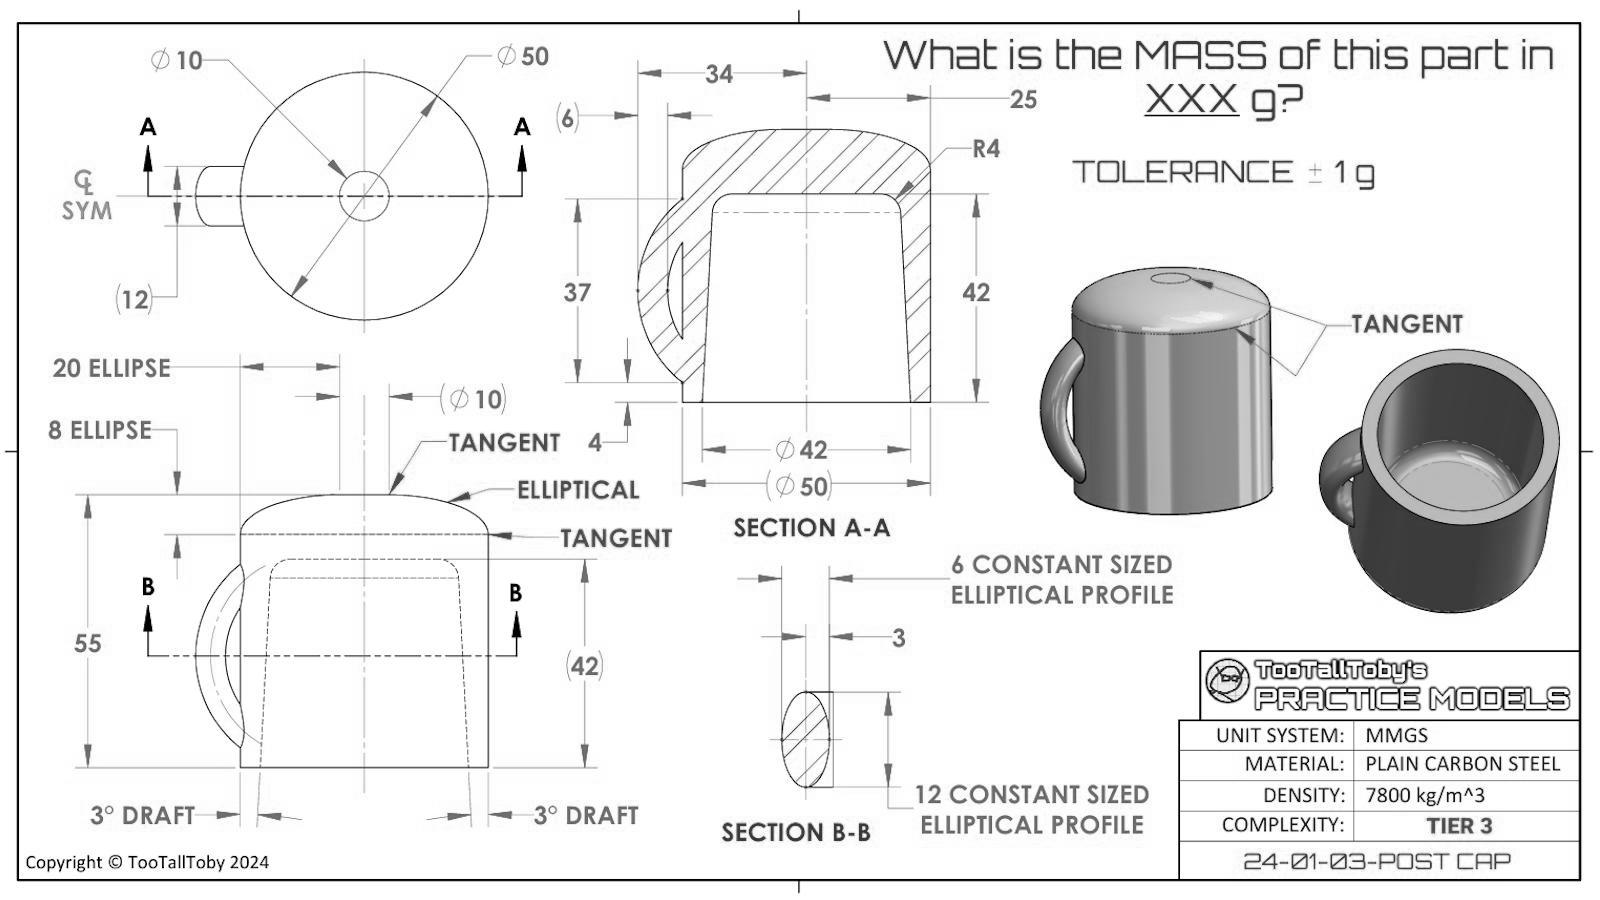-: (1304, 155, 1326, 189), (862, 523, 874, 534), (844, 830, 857, 837)
0: (534, 44, 552, 69), (189, 47, 203, 74), (66, 357, 81, 380), (487, 389, 503, 410), (813, 476, 827, 499), (1399, 787, 1411, 805), (1389, 787, 1399, 804)
1: (1332, 157, 1351, 188), (176, 48, 188, 73), (475, 387, 486, 411), (915, 784, 927, 804), (122, 289, 132, 311)
2: (1009, 88, 1024, 112), (926, 782, 942, 805), (814, 436, 829, 460), (52, 357, 67, 379), (585, 655, 599, 677), (134, 290, 149, 310), (977, 280, 990, 302)
3: (705, 60, 720, 87), (89, 804, 104, 825), (533, 804, 547, 825), (891, 627, 905, 647), (564, 281, 576, 304)
4: (720, 62, 735, 86), (986, 136, 1001, 159), (962, 279, 976, 303), (799, 438, 814, 460), (587, 432, 602, 453), (569, 656, 585, 676)
5: (87, 632, 104, 656), (520, 43, 535, 68), (1024, 88, 1040, 111), (73, 633, 87, 655), (798, 475, 812, 497)
6: (949, 553, 966, 576), (562, 105, 575, 129)
7: (577, 279, 593, 302), (1365, 786, 1376, 804)
8: (47, 418, 63, 440), (1376, 786, 1388, 804)
A: (873, 513, 892, 540), (511, 114, 533, 137), (843, 514, 863, 540), (138, 116, 156, 136)
B: (832, 820, 846, 844), (857, 819, 871, 843), (142, 576, 155, 597), (509, 582, 522, 602)
ConstantSized: (947, 781, 1151, 807), (969, 552, 1174, 576)
Degrees: (547, 802, 558, 816), (104, 802, 115, 815)
Density: (1262, 786, 1346, 805)
Diameter: (146, 42, 173, 74), (497, 41, 518, 73), (775, 474, 795, 498), (449, 387, 469, 410), (776, 438, 795, 462)
Draft: (120, 804, 196, 825), (564, 804, 640, 825)
Ellipse: (87, 356, 174, 379), (69, 419, 154, 441)
Elliptical: (919, 812, 1045, 836), (514, 478, 645, 500), (951, 584, 1075, 607)
MMGS: (1362, 725, 1429, 744)
Material: (1244, 754, 1345, 777)
PlainCarbonSteel: (1365, 755, 1562, 773)
Profile: (1080, 584, 1176, 605), (1053, 814, 1145, 836)
Radius: (971, 136, 986, 159)
SYM: (62, 198, 115, 222)
Section: (719, 821, 827, 844), (731, 516, 836, 538)
Symmetry: (74, 167, 97, 198)
Tangent: (556, 526, 673, 549), (1348, 312, 1465, 334), (447, 432, 564, 454)
UnitSystem: (1215, 726, 1344, 746)
X: (1207, 81, 1240, 113), (1177, 81, 1208, 114), (1144, 82, 1175, 113)
grams: (1246, 85, 1278, 124), (1354, 160, 1378, 192)
